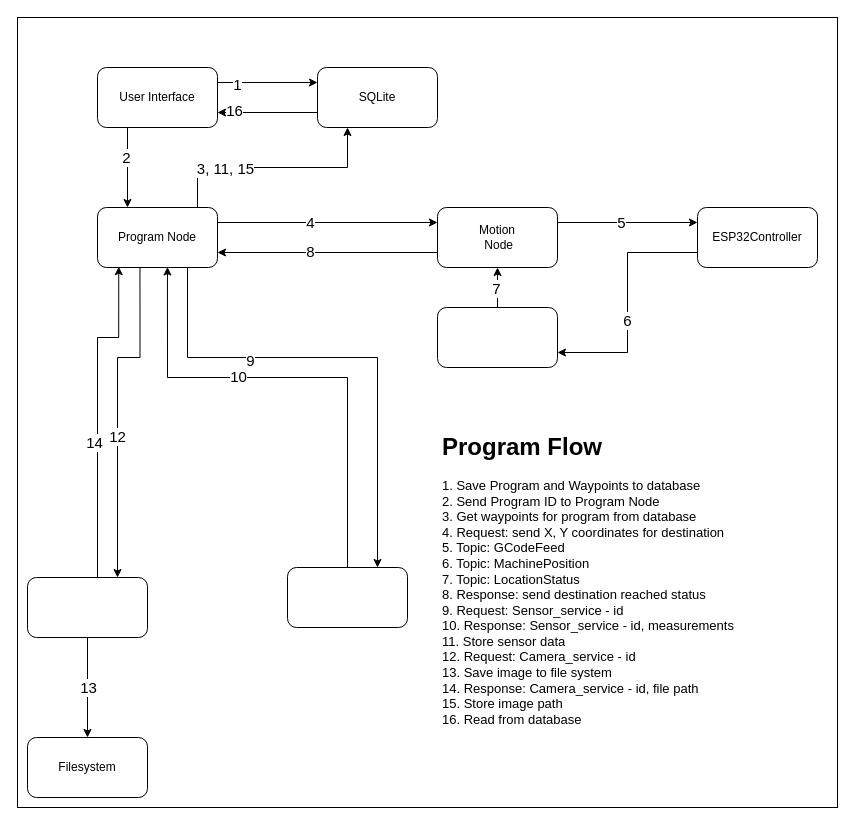
Some shapes in this 855 by 825 pixel diagram are drawn without their labels. The box of each missing label's shape, as (x1, y1, x2, y2) in pixels:
Camera Node: (26, 576, 148, 638)
Location Node: (436, 306, 558, 368)
Sensor Node: (286, 566, 408, 628)
